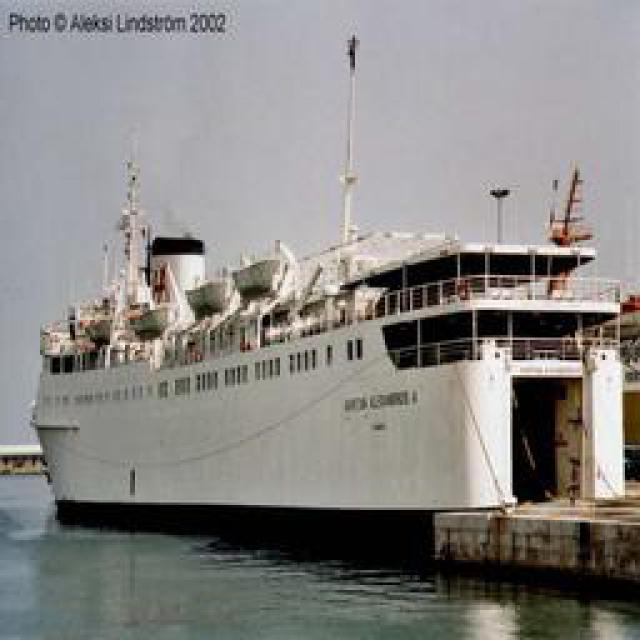Ship: (31, 69, 630, 529)
